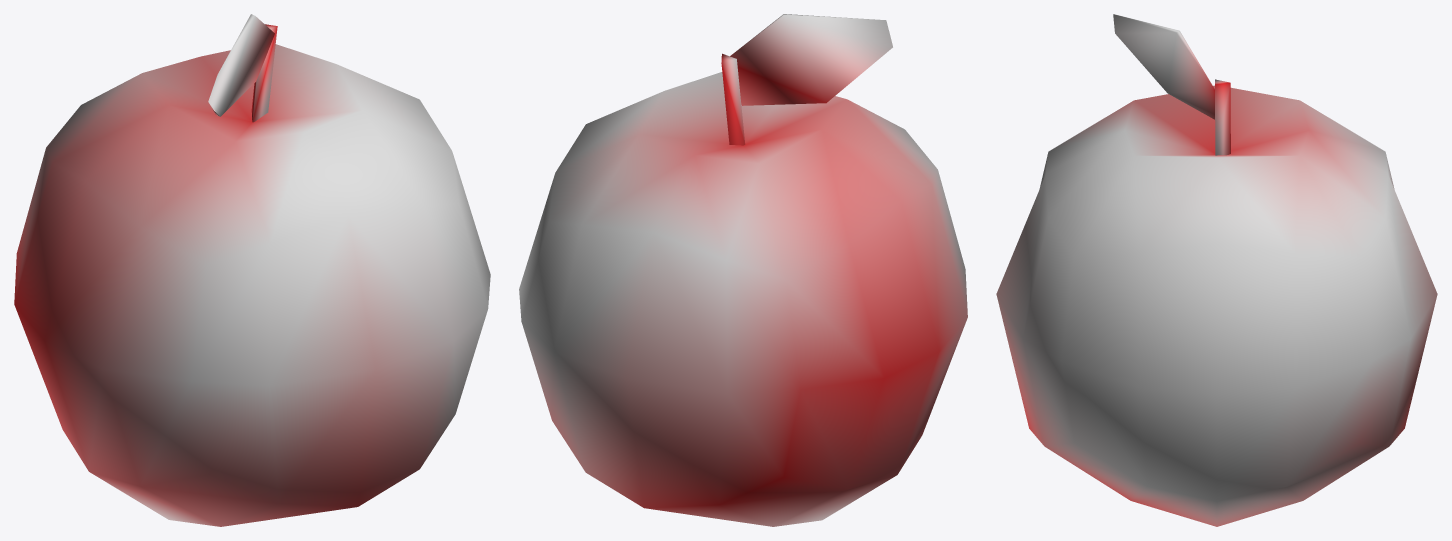
File: Apple.fbx
3 views of the same model, side by side, from view 1: azimuth 30°, elevation 25°; view 2: azimuth 150°, elevation 25°; view 3: azimuth 270°, elevation 25° (orthographic). The views are drawn at different scales.
Visible parts, largest first — view 1: Apple; view 2: Apple; view 3: Apple.
Part boxes in pixels (x1,y1,x2,y2): Apple: (14, 14, 490, 526); Apple: (519, 14, 967, 526); Apple: (996, 14, 1437, 526).
Size of the model in its own units: 61.73 by 71.83 by 63.8.
